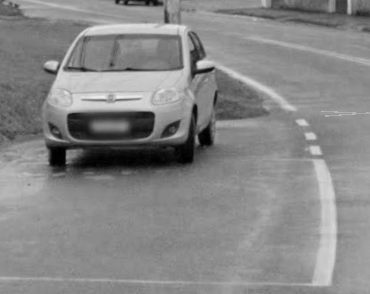car: (34, 19, 225, 174)
